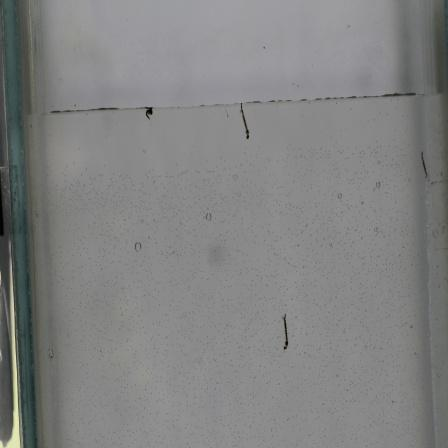Jentik-Nyamuk: (276, 313, 297, 357), (233, 103, 254, 142), (414, 148, 433, 183), (140, 105, 161, 122)
